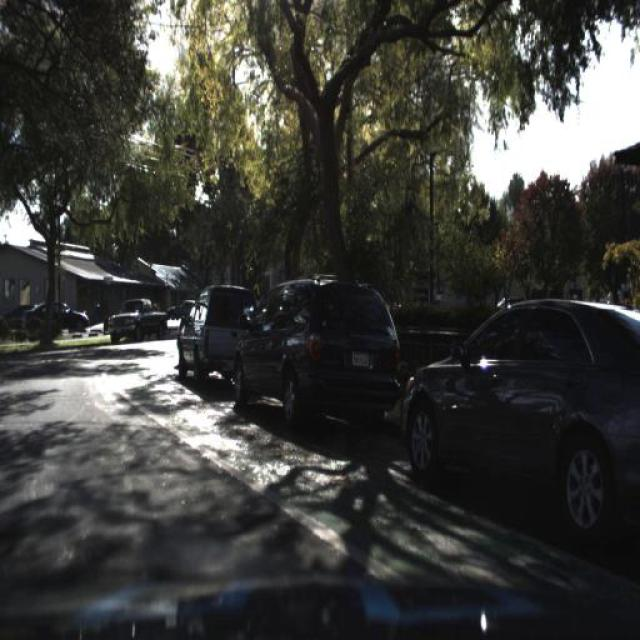car: (400, 292, 638, 538), (230, 284, 400, 410), (172, 279, 254, 386), (106, 294, 168, 341), (28, 300, 92, 342), (160, 280, 205, 330), (2, 290, 39, 336)
